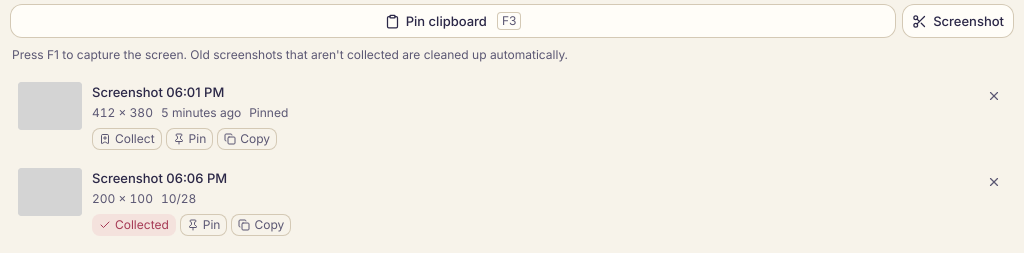
英文界面：桌面 › 截图历史与它的右键菜单
Expected: the text "Press F1 to capture the screen. Old screenshots that aren't collected are cleaned up automatically." is shown, [12, 47, 568, 62]
Expected: the text "5 minutes ago" is shown, [161, 104, 241, 122]
Right-click the list item that starts with "Screenshot 06:01 PM": [50, 106] box [10, 74, 1014, 158]
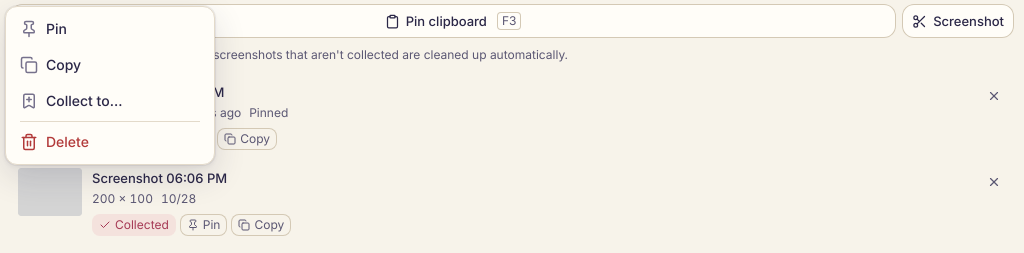
Now the menu named "Screenshot menu" is shown, box [5, 6, 215, 165]
